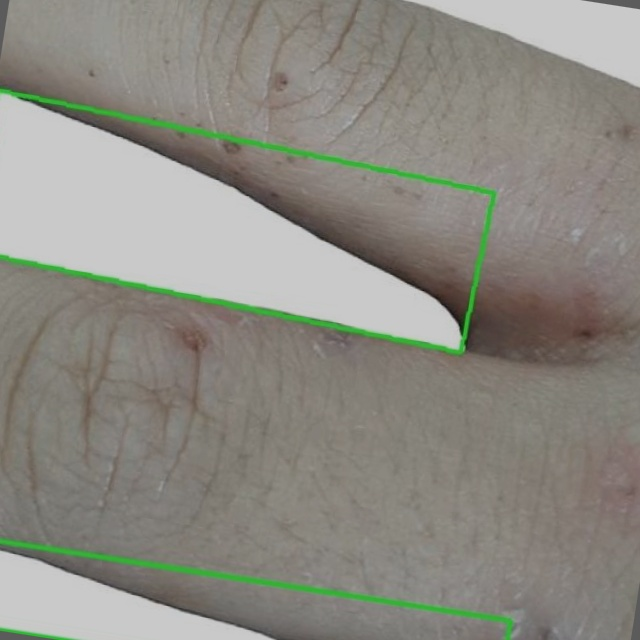Scabies: (0, 91, 493, 352)
